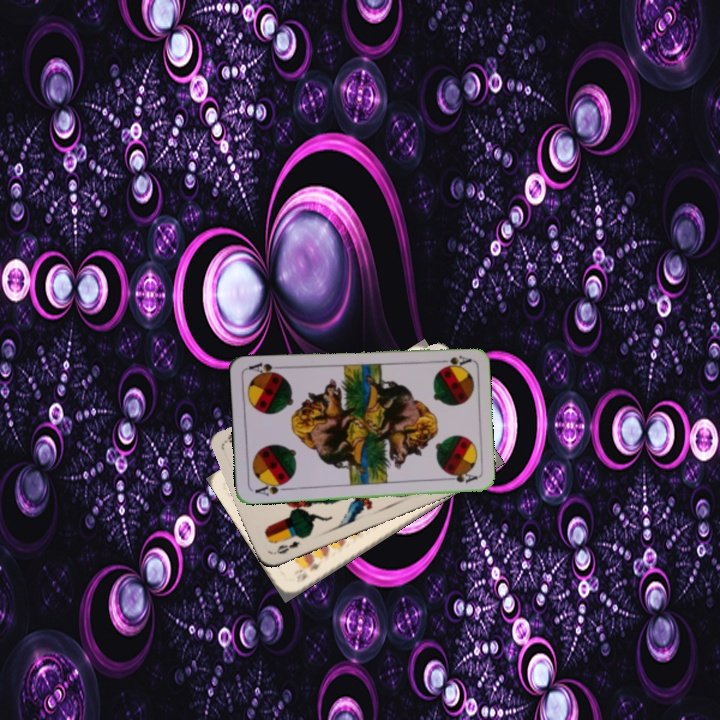E10: (297, 554, 324, 583)
EO: (270, 532, 307, 557)
SA: (251, 478, 291, 498), (433, 351, 473, 369)
